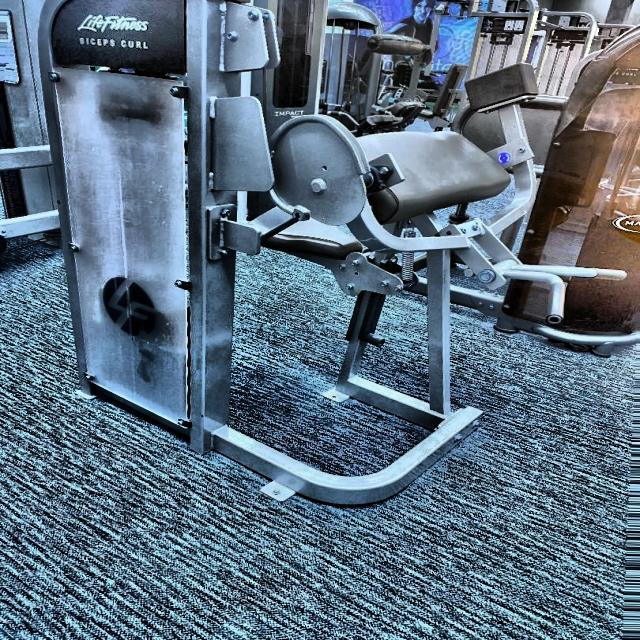bicep_curl_machine: (232, 6, 627, 521), (67, 32, 157, 58)
